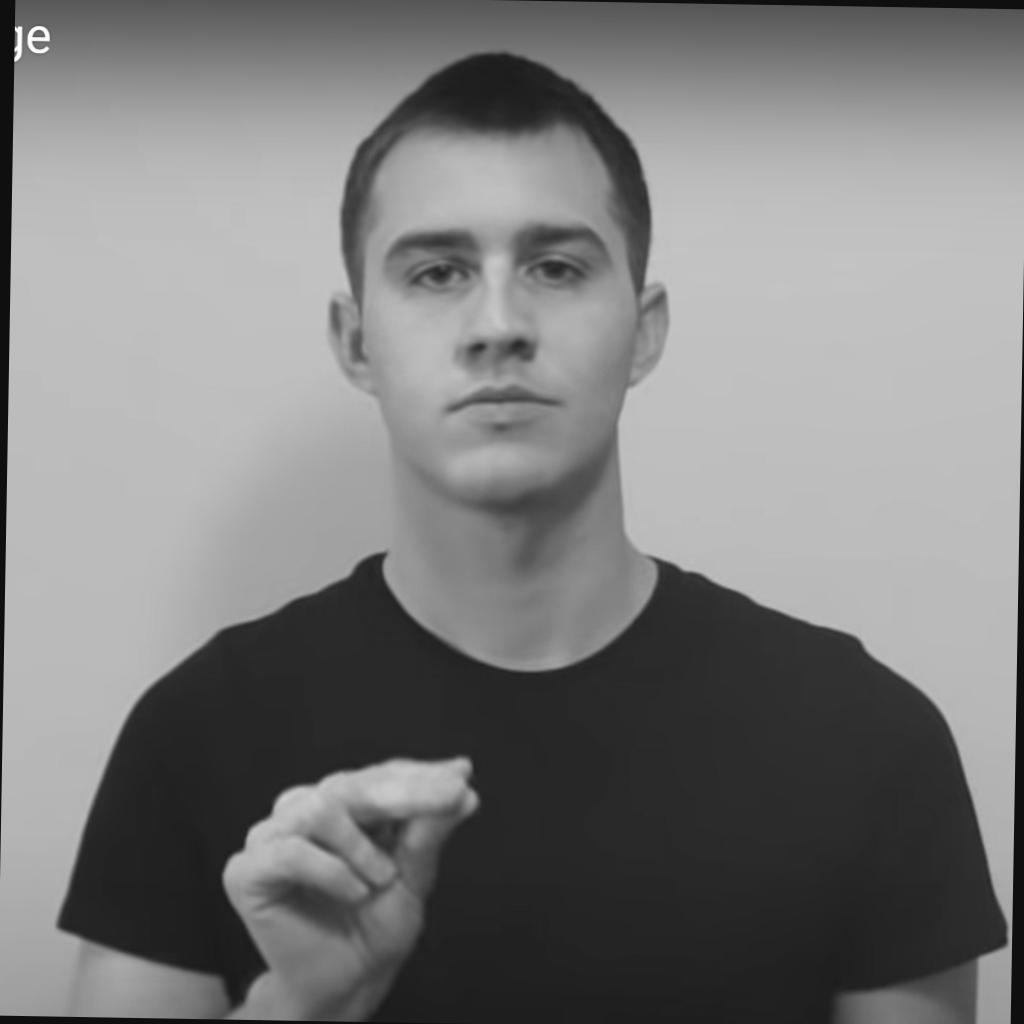no: (220, 753, 477, 1017)
